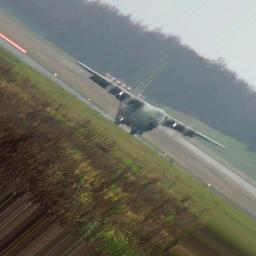Airplane: (76, 57, 225, 150)
